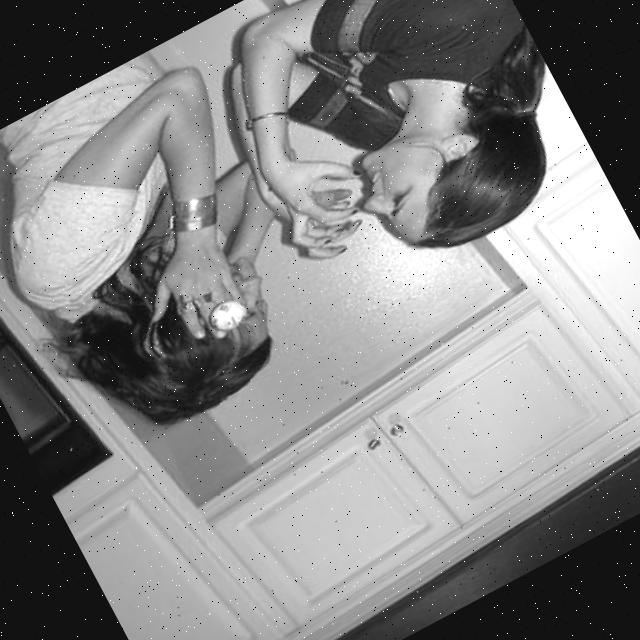ping-pong-ball: (203, 292, 251, 336)
